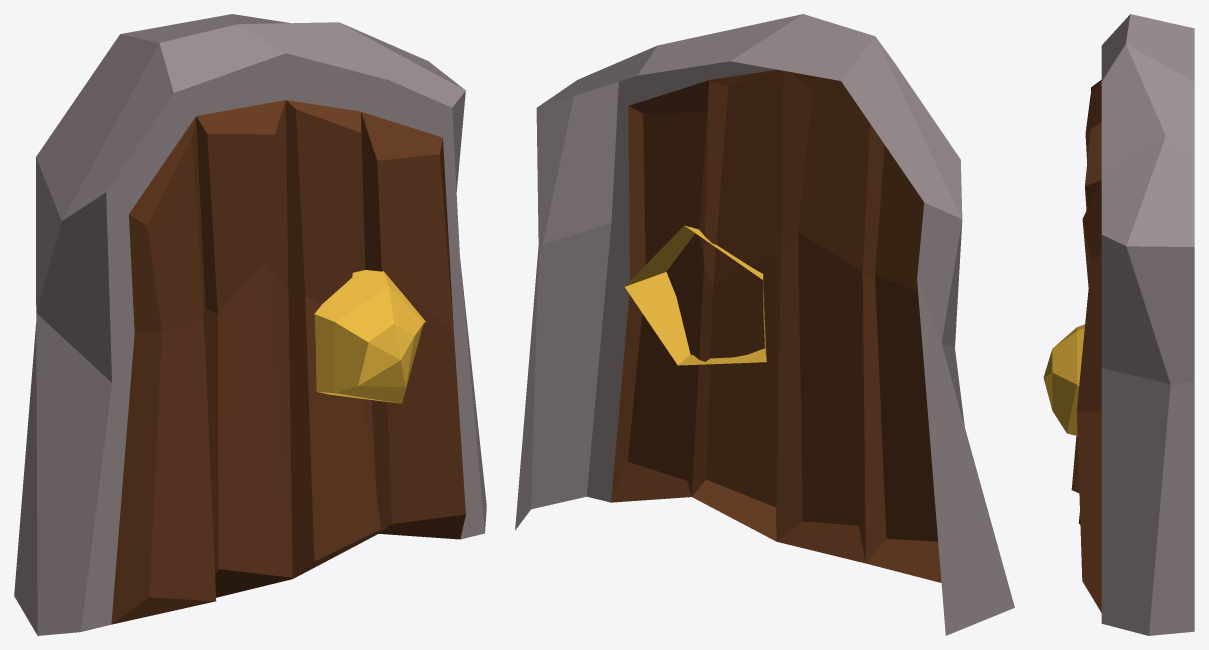
The model's file is SM_L_Modular_door_1.fbx.
3 views of the same model, side by side, from view 1: azimuth 30°, elevation 25°; view 2: azimuth 150°, elevation 25°; view 3: azimuth 270°, elevation 25° (orthographic). The views are drawn at different scales.
Visible parts, largest first — view 1: SM_Door; view 2: SM_Door; view 3: SM_Door.
Part boxes in pixels (box(x1,y1,x2,y2)): SM_Door: box(14, 14, 486, 635); SM_Door: box(515, 14, 1014, 635); SM_Door: box(1043, 14, 1194, 635).
Size of the model in its own units: 125 by 142 by 40.34.
